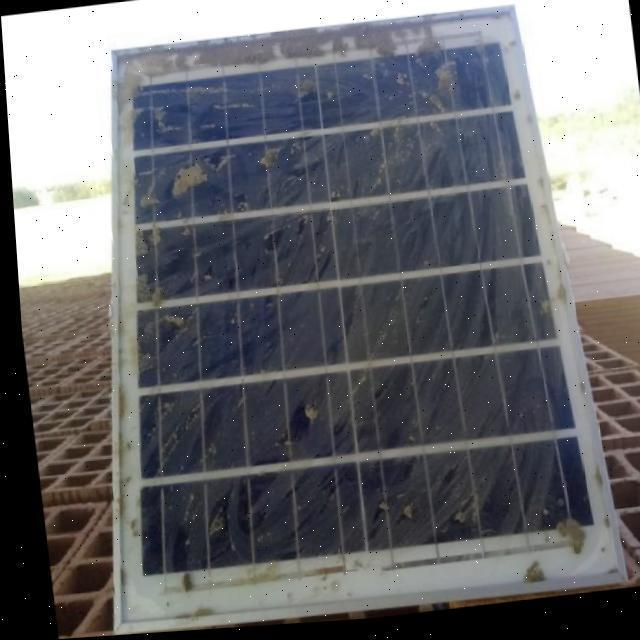Surface Contaminant: (106, 14, 581, 612)
